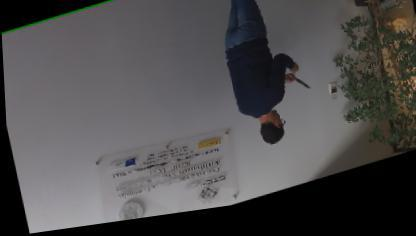knife: (284, 76, 309, 102)
